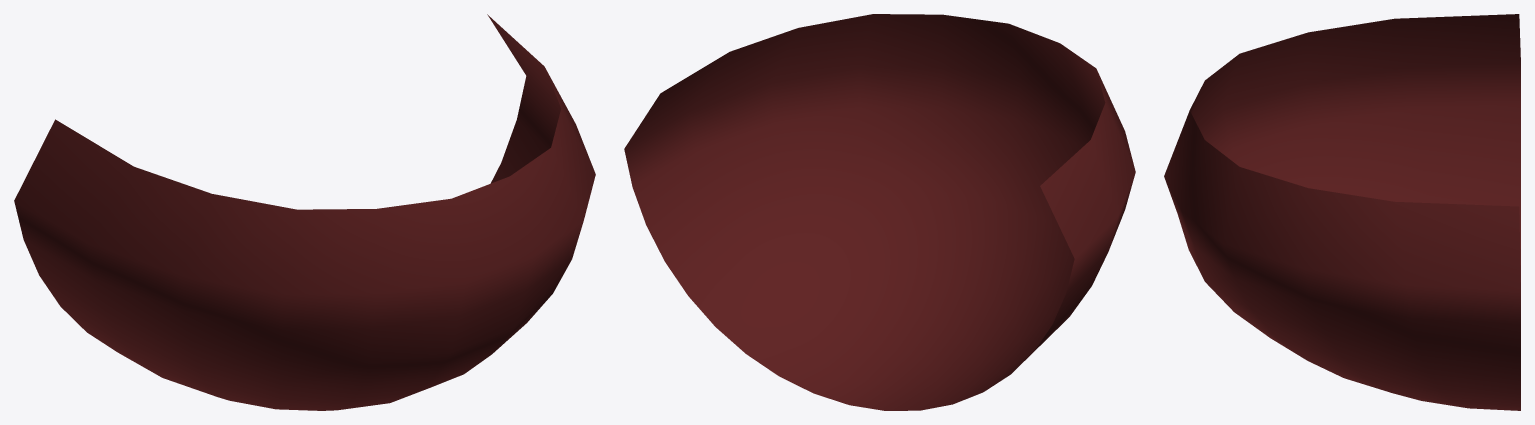
File: Lamp.fbx
The picture shows the model from 3 angles, left to right: view 1: azimuth 30°, elevation 25°; view 2: azimuth 150°, elevation 25°; view 3: azimuth 270°, elevation 25°; orthographic projection. The views are drawn at different scales.
Parts seen in each view (by area): view 1: pSphere1; view 2: pSphere1; view 3: pSphere1.
Part boxes in pixels (<box>): pSphere1: <box>14,14,595,410</box>; pSphere1: <box>624,14,1135,410</box>; pSphere1: <box>1164,14,1520,410</box>.
Size of the model in its own units: 1.45 by 0.8147 by 0.9576.
